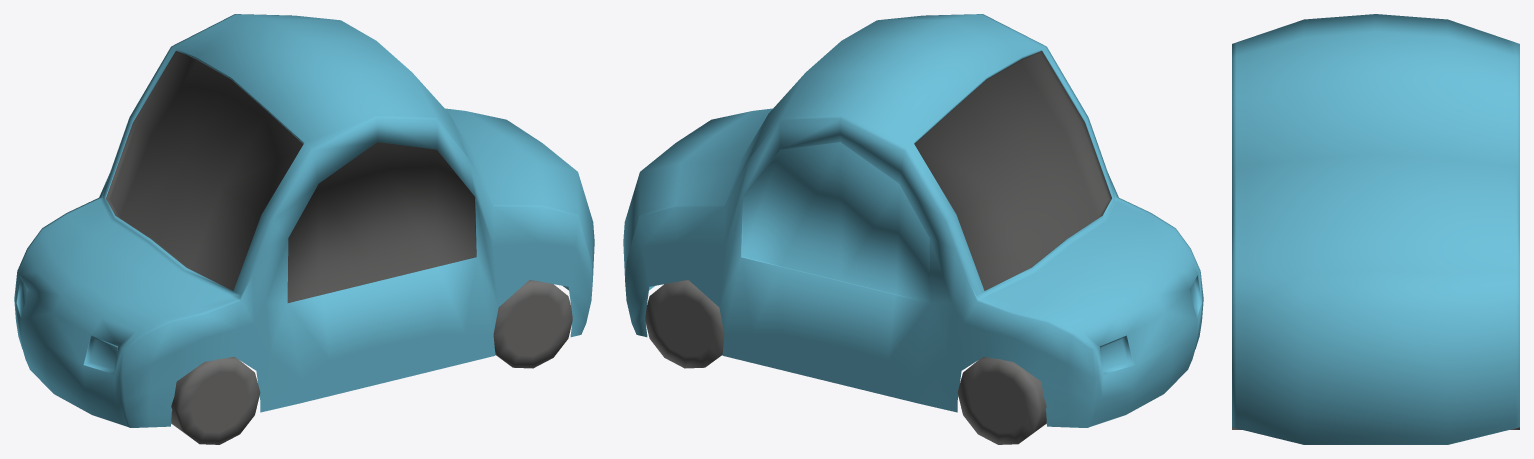
File: car1.fbx
The picture shows the model from 3 angles, left to right: view 1: azimuth 30°, elevation 25°; view 2: azimuth 150°, elevation 25°; view 3: azimuth 270°, elevation 25°; orthographic projection.
Parts seen in each view (by area): view 1: car.000; view 2: car.000; view 3: car.000.
Boxes of the visible parts, x1,y1,x2,y2 form: car.000: (14,14,594,444); car.000: (623,14,1203,444); car.000: (1232,14,1519,444).
Bounding box in the file's own units: 207 × 121 × 99.46.
